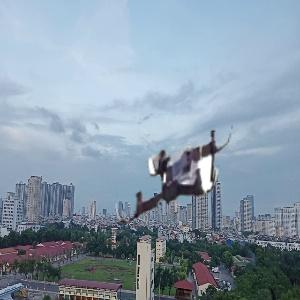drone: (113, 118, 234, 239)
